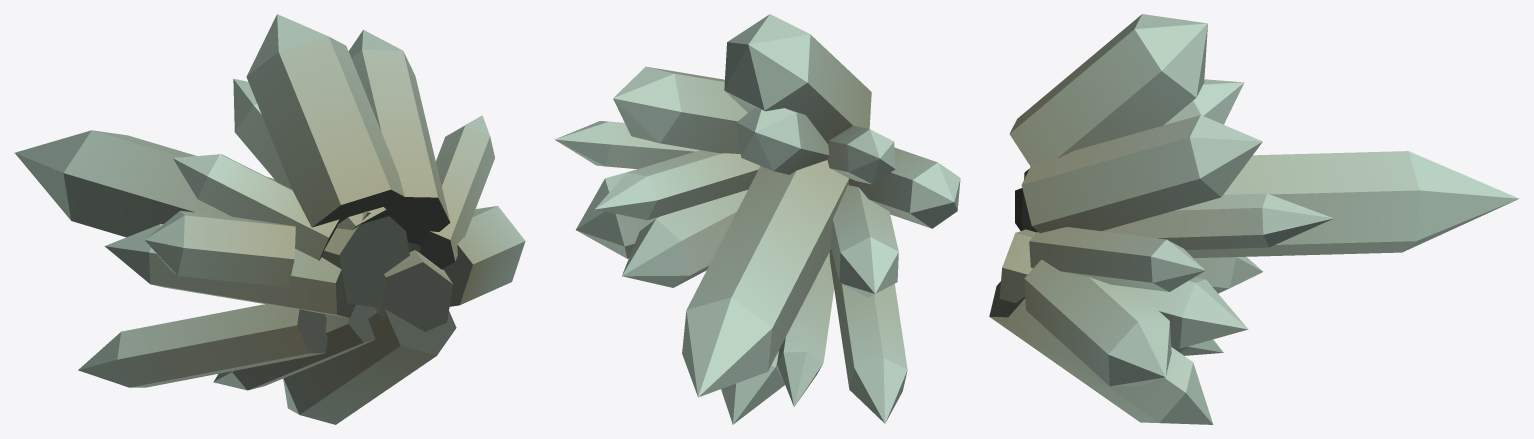
File: ColoredCrystalCluster.001.glb
The picture shows the model from 3 angles, left to right: view 1: azimuth 30°, elevation 25°; view 2: azimuth 150°, elevation 25°; view 3: azimuth 270°, elevation 25°; orthographic projection. The views are drawn at different scales.
Parts seen in each view (by area): view 1: ColoredCrystalCluster.001; view 2: ColoredCrystalCluster.001; view 3: ColoredCrystalCluster.001.
Part boxes in pixels (left/top/right/bottom): ColoredCrystalCluster.001: left=14, top=14, right=525, bottom=424; ColoredCrystalCluster.001: left=554, top=14, right=960, bottom=424; ColoredCrystalCluster.001: left=989, top=14, right=1519, bottom=424.
Size of the model in its own units: 796 by 806 by 977.
